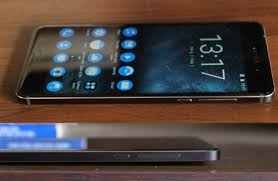nokia: (14, 17, 276, 111)
